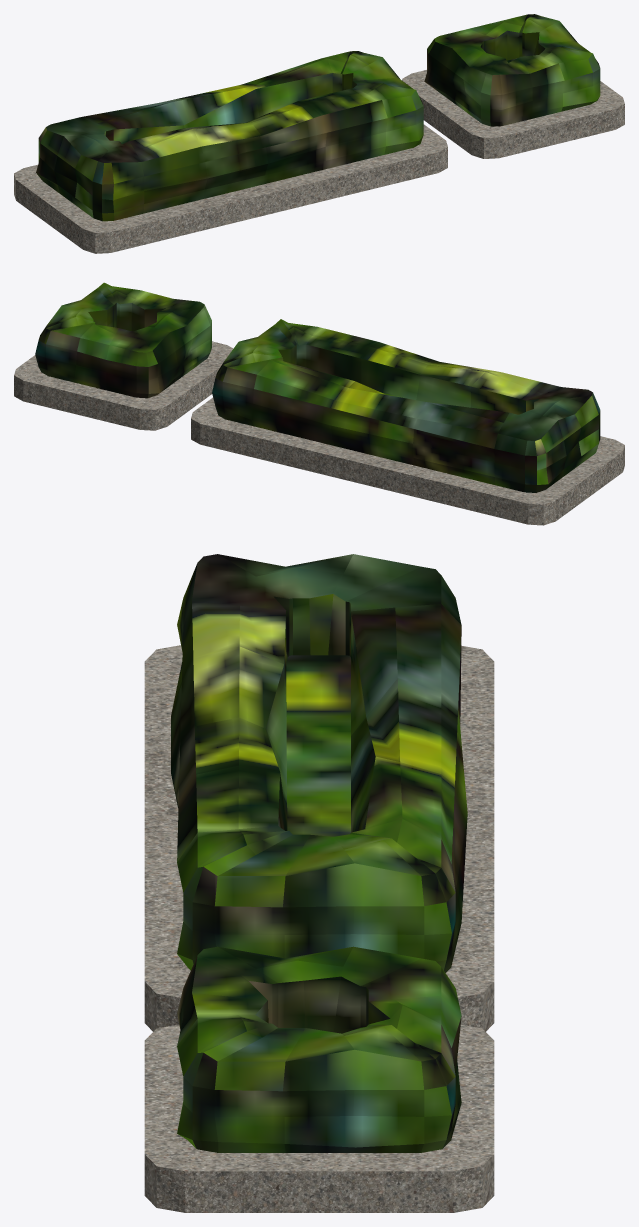
File: Buissons.fbx
3 views of the same model, one above another, from view 1: azimuth 30°, elevation 25°; view 2: azimuth 150°, elevation 25°; view 3: azimuth 270°, elevation 25° (orthographic). The views are drawn at different scales.
Visible parts, largest first — view 1: Cube.001, Cube; view 2: Cube.001, Cube; view 3: Cube.001, Cube.
Part boxes in pixels (x1,y1,x2,y2): Cube.001: (14, 51, 447, 253); Cube: (402, 14, 624, 158); Cube.001: (191, 319, 624, 525); Cube: (14, 282, 233, 430); Cube.001: (144, 554, 494, 1031); Cube: (144, 946, 494, 1212).
Size of the model in its own units: 7.13 by 2 by 1.01.
Materials: 2 (2 with a texture image).
